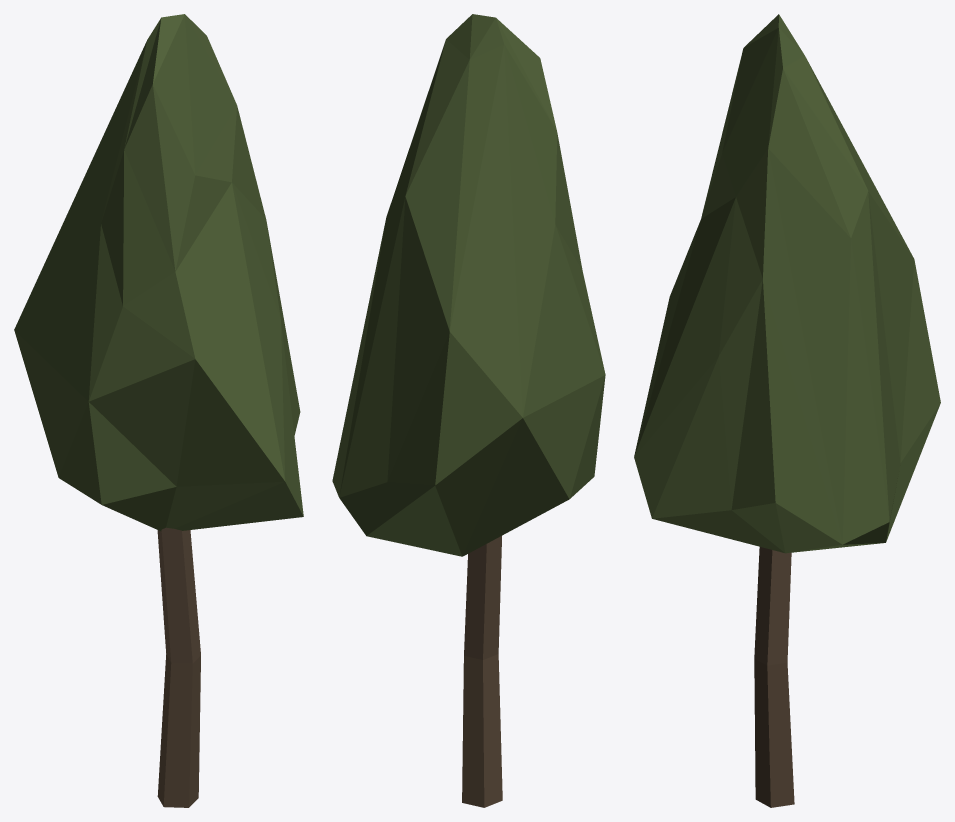
Rendered from SM_Env_Tree_03.fbx.
3 renders of one model, left to right at view 1: azimuth 30°, elevation 25°; view 2: azimuth 150°, elevation 25°; view 3: azimuth 270°, elevation 25°, orthographic.
Parts seen in each view (by area): view 1: SM_Env_Tree_03; view 2: SM_Env_Tree_03; view 3: SM_Env_Tree_03.
Part boxes in pixels (<box>): SM_Env_Tree_03: <box>14,14,303,807</box>; SM_Env_Tree_03: <box>332,14,605,807</box>; SM_Env_Tree_03: <box>634,14,940,807</box>.
Bounding box in the file's own units: 92.47 × 304 × 109.
